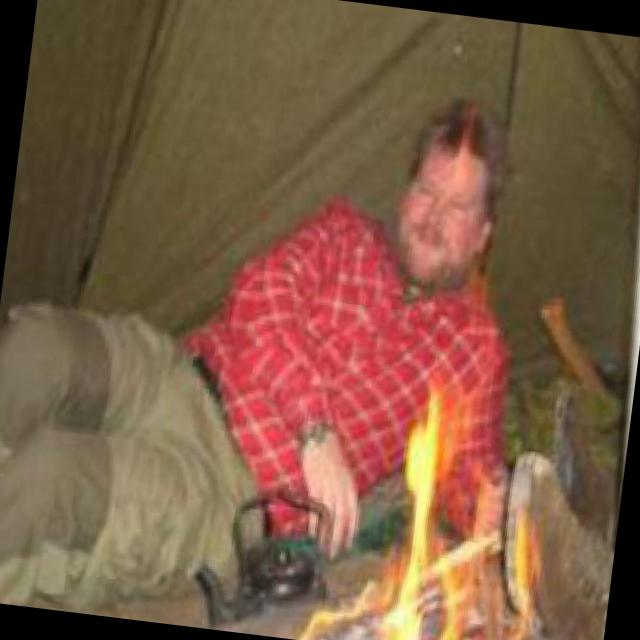fire: (294, 372, 550, 640)
